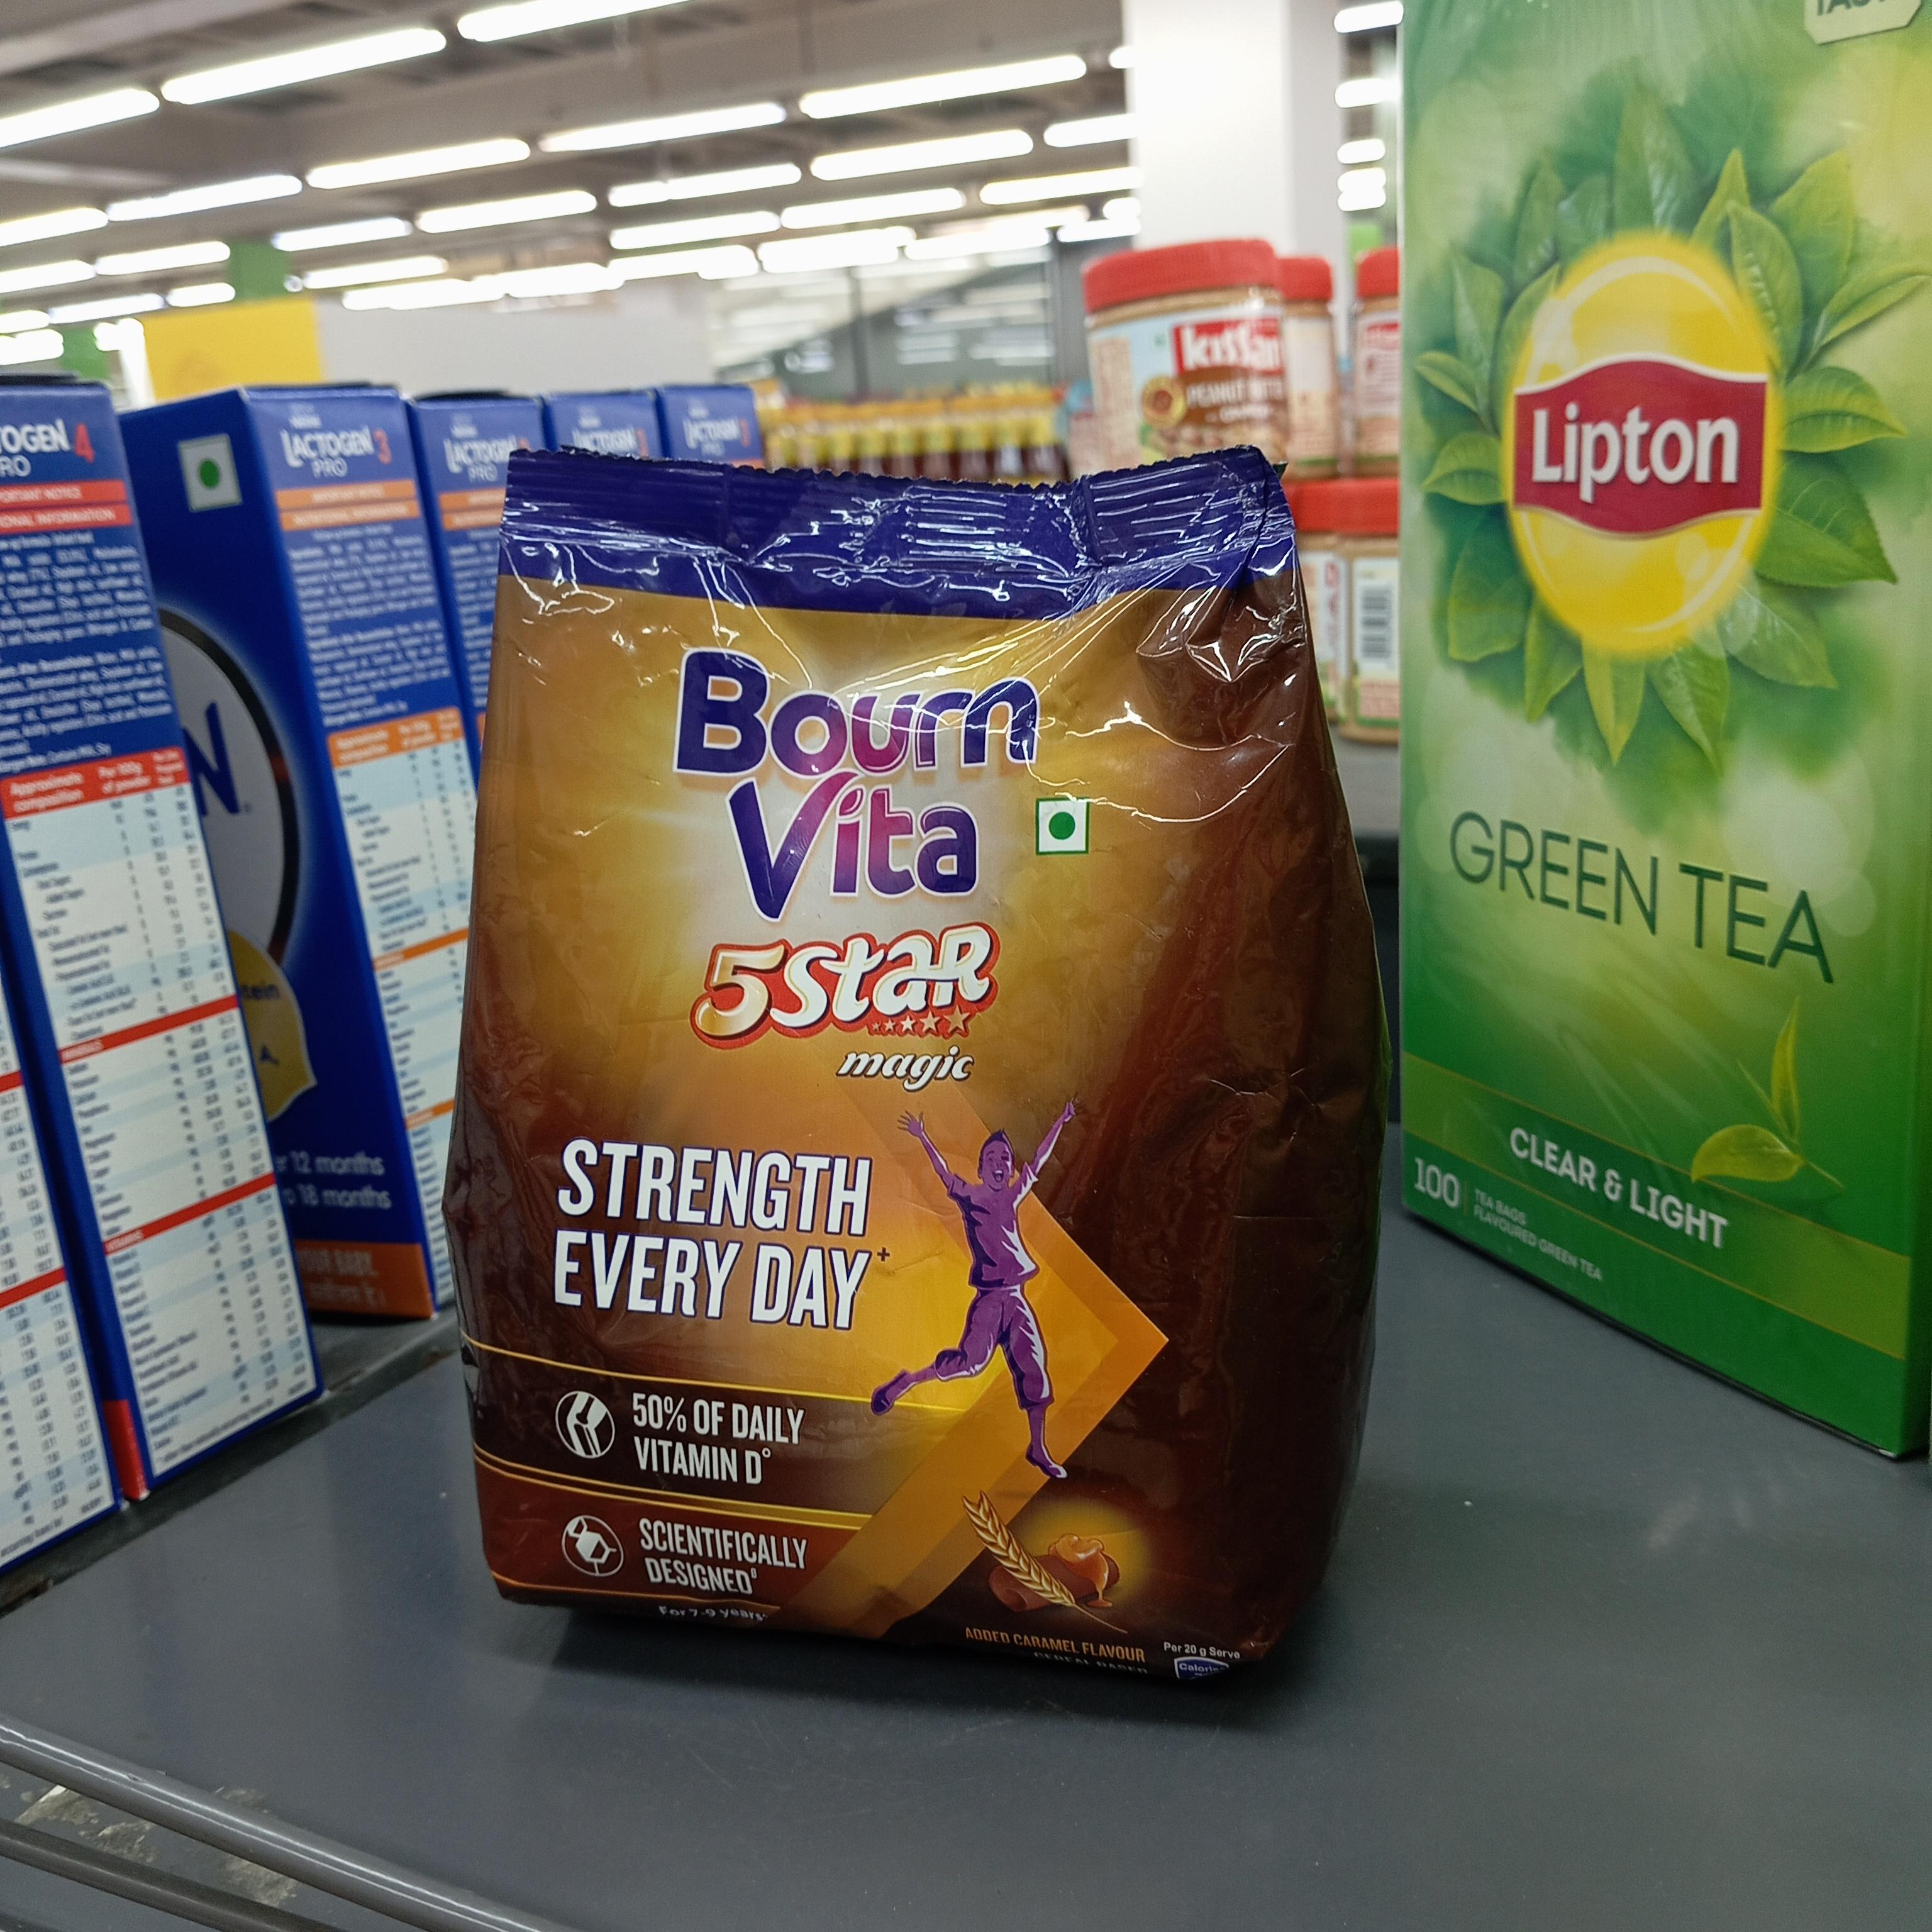BOURN_VITA_FIVE_STAR_MAGIC_500_G_POUCH: (474, 449, 1302, 1688)
